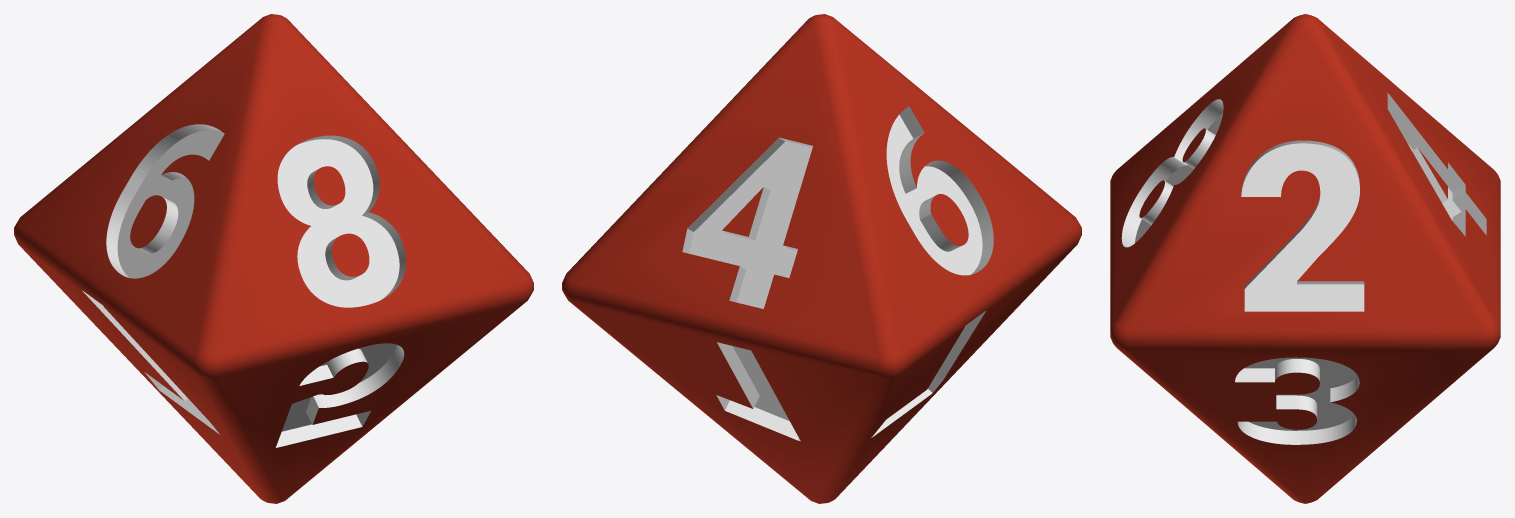
The picture shows the model from 3 angles, left to right: view 1: azimuth 30°, elevation 25°; view 2: azimuth 150°, elevation 25°; view 3: azimuth 270°, elevation 25°; orthographic projection.
Visible parts, largest first — view 1: Plane.001; view 2: Plane.001; view 3: Plane.001.
Boxes of the visible parts, x1=… form: Plane.001: x1=14, y1=14, x2=533, y2=503; Plane.001: x1=562, y1=14, x2=1081, y2=503; Plane.001: x1=1110, y1=14, x2=1500, y2=503.
Size of the model in its own units: 1.95 by 2.68 by 1.95.
